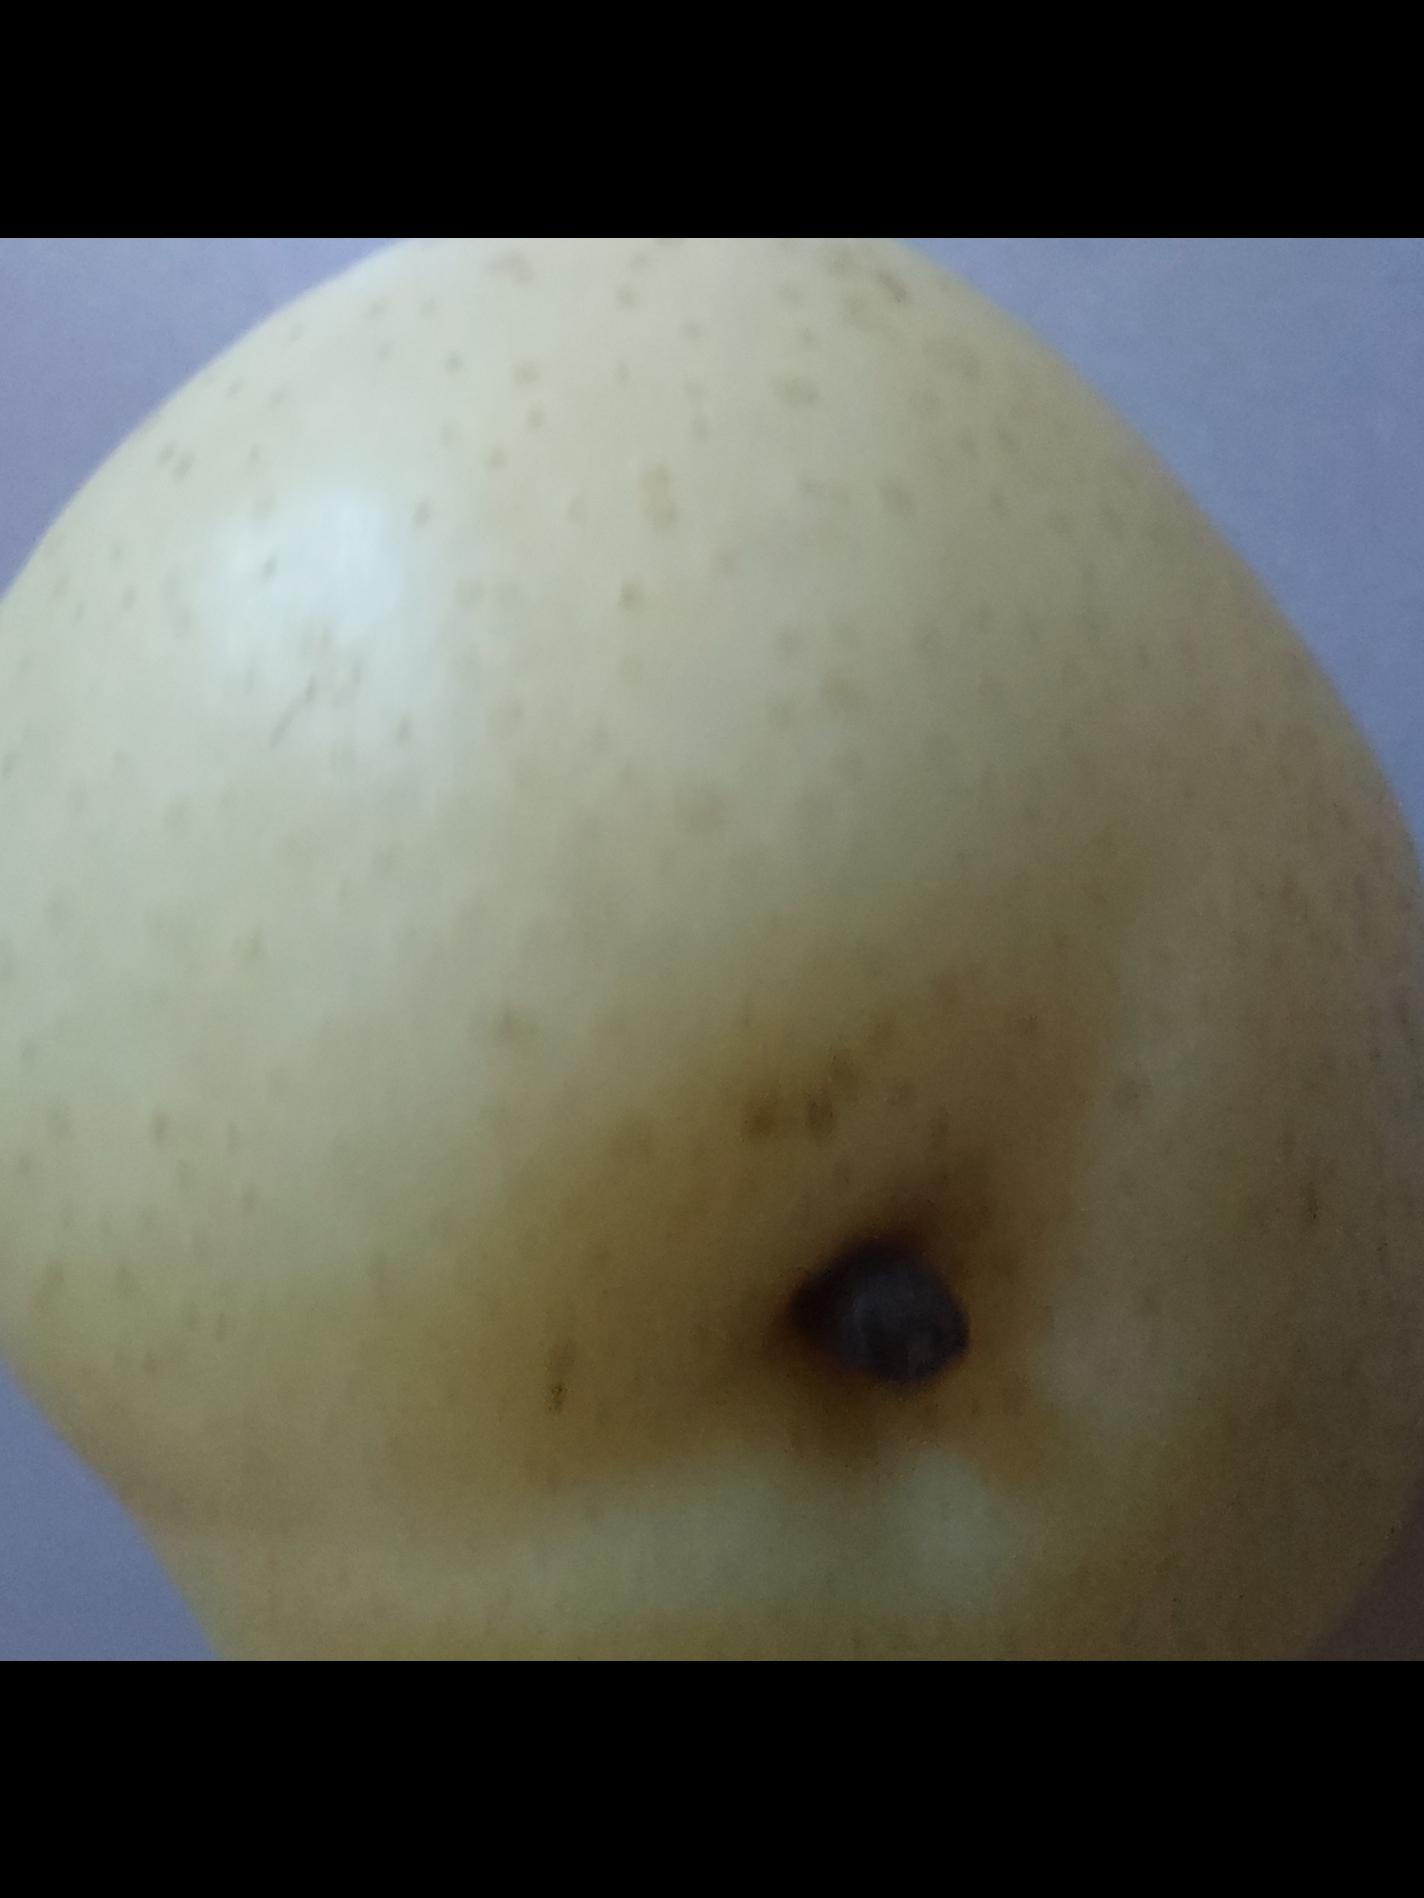Good Pear: (0, 239, 1424, 1662)
